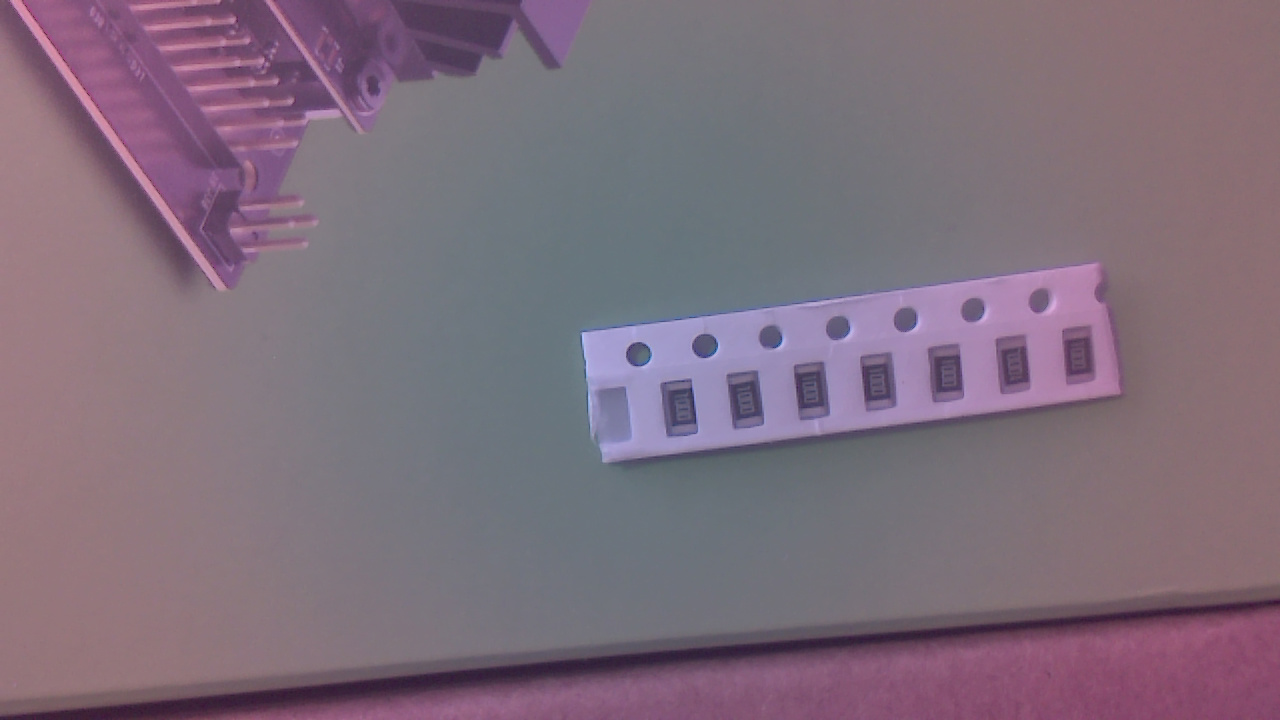Resistor: (666, 383, 704, 442), (798, 365, 836, 424), (1001, 337, 1036, 401), (933, 350, 967, 412), (734, 374, 768, 435), (1064, 327, 1095, 387), (865, 359, 899, 413)
